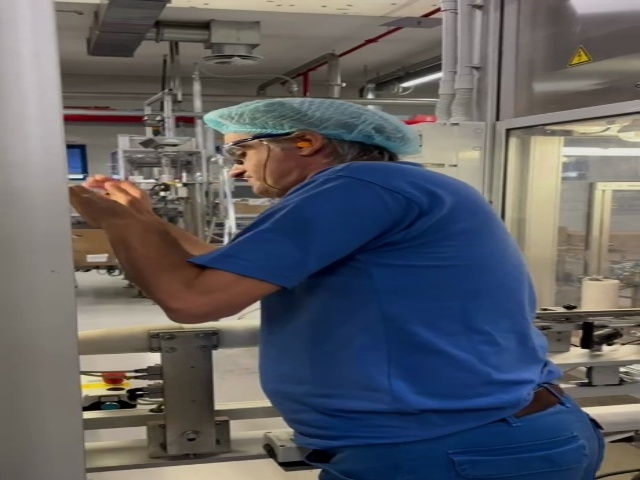Earplug: (293, 133, 324, 156)
Hairnet: (211, 99, 420, 155)
No_Helmet: (203, 94, 419, 135)
No_Vest: (259, 166, 576, 428)
Person: (203, 96, 609, 480)
Safety_Goggles: (214, 132, 298, 165)
